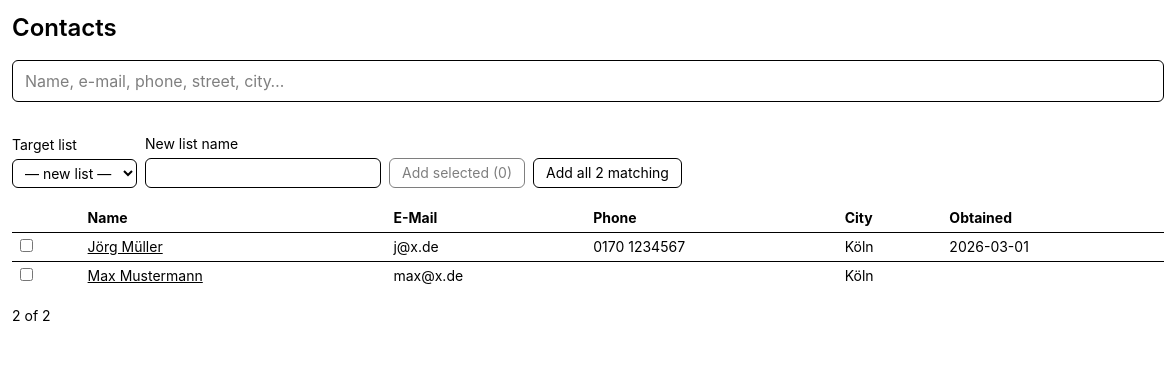
it: ContactsPage › searches with a debounce and adds the selection to an existing list
Check: the link "Jörg Müller" is shown, box [88,238,163,255]
In the search field named "Search contacts": (588, 81) [12,60,1164,102], type "köln"
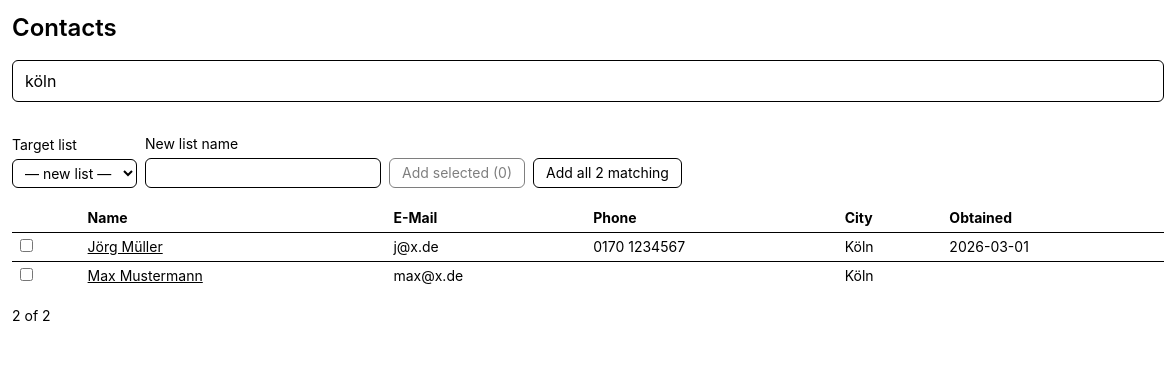
Click the checkbox named "Select Jörg Müller": (26, 246) [20,239,33,252]
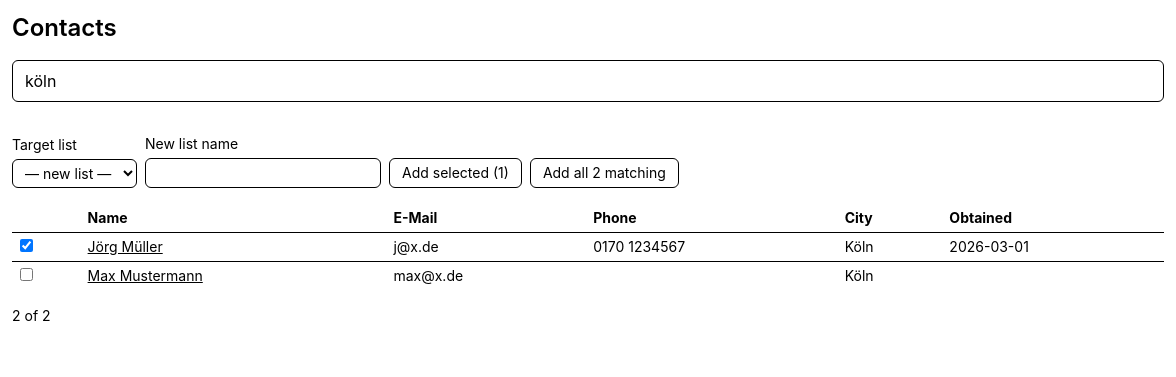
Select "Fair" in the dropdown labelled "Target list": (74, 174) [12,159,137,188]
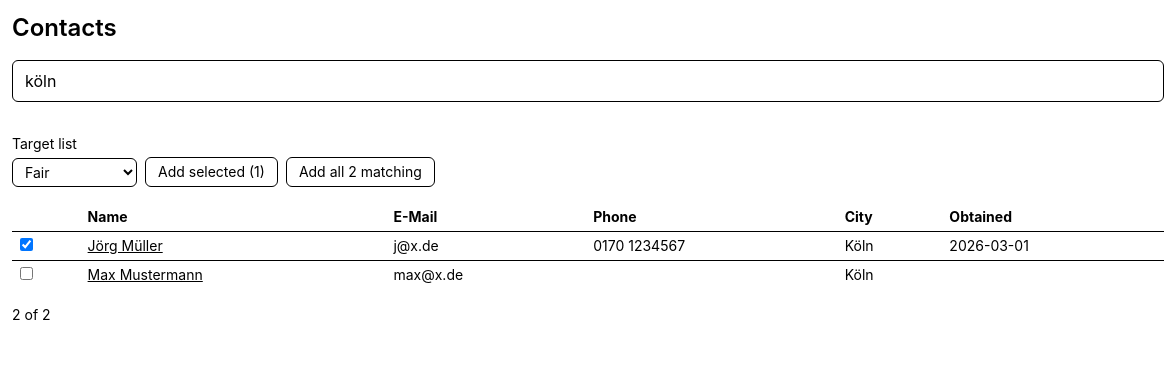
Click the button "Add selected (1)": (211, 172) [145,157,278,187]
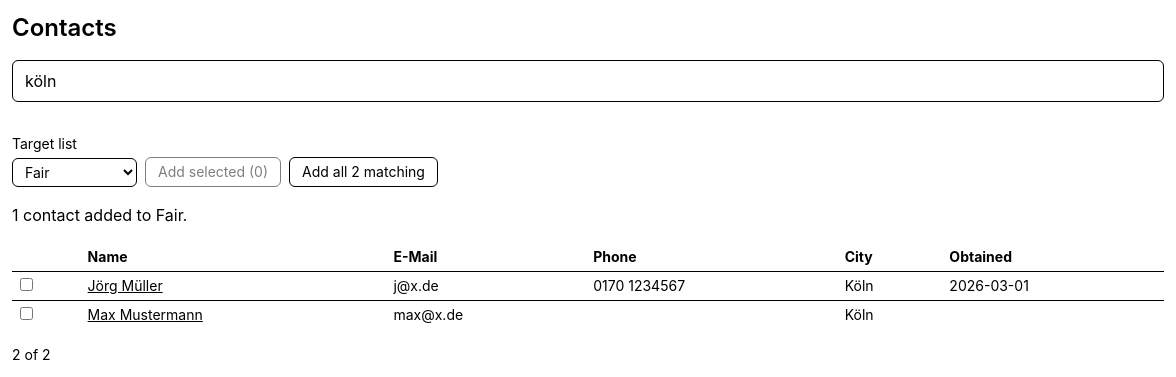
Check: the text "1 contact added to Fair." is shown, box [12,205,187,225]
